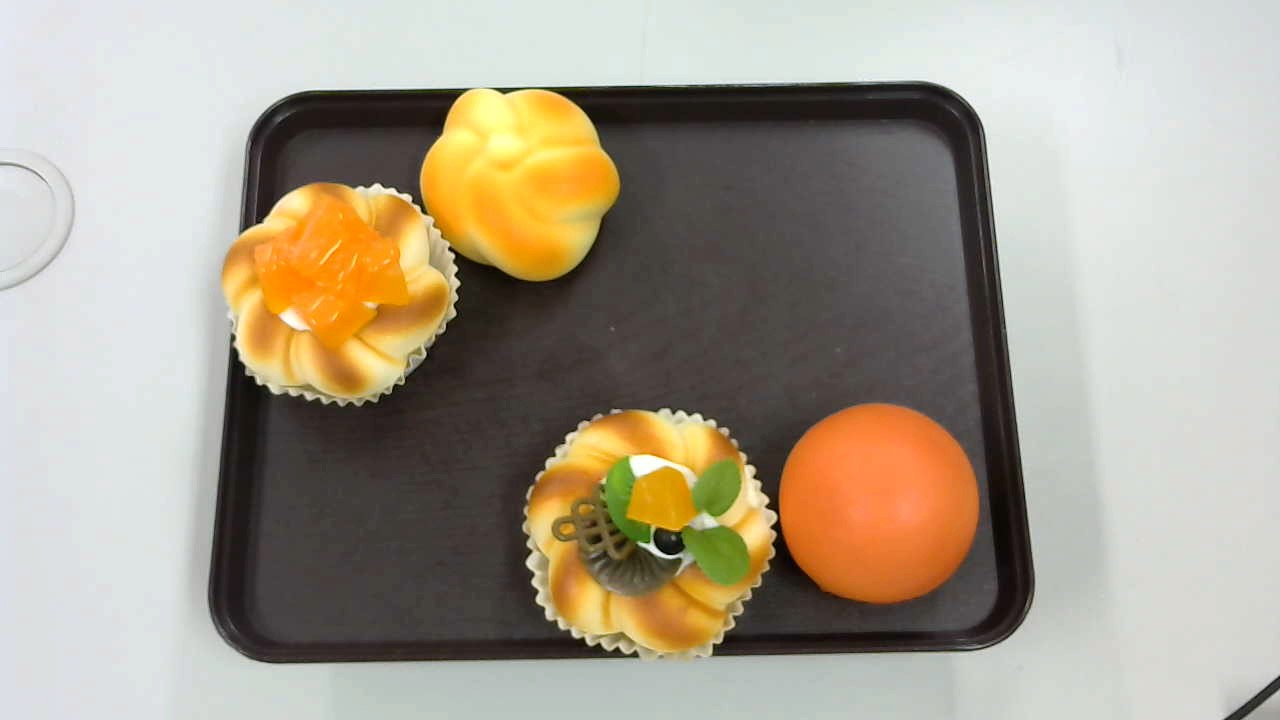bun: (779, 402, 980, 605)
fruit tart: (523, 410, 780, 658)
mango tart: (220, 180, 459, 410)
twist bread: (419, 88, 621, 282)
